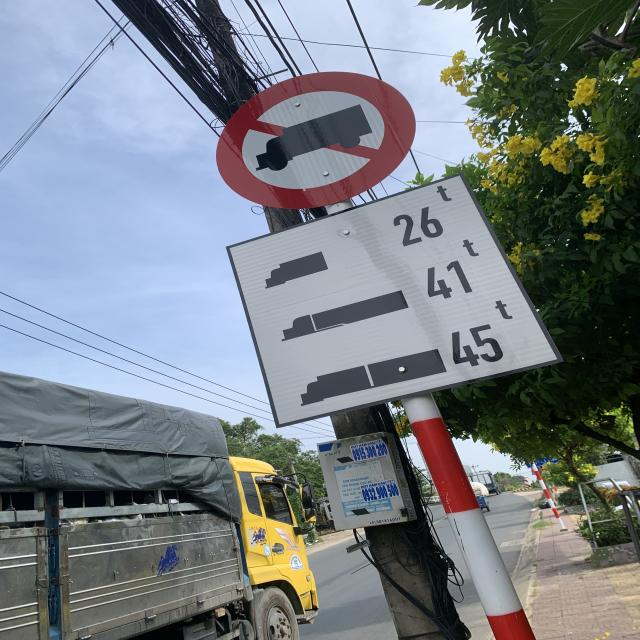Cam_Xe_Tai: (215, 69, 422, 207)
